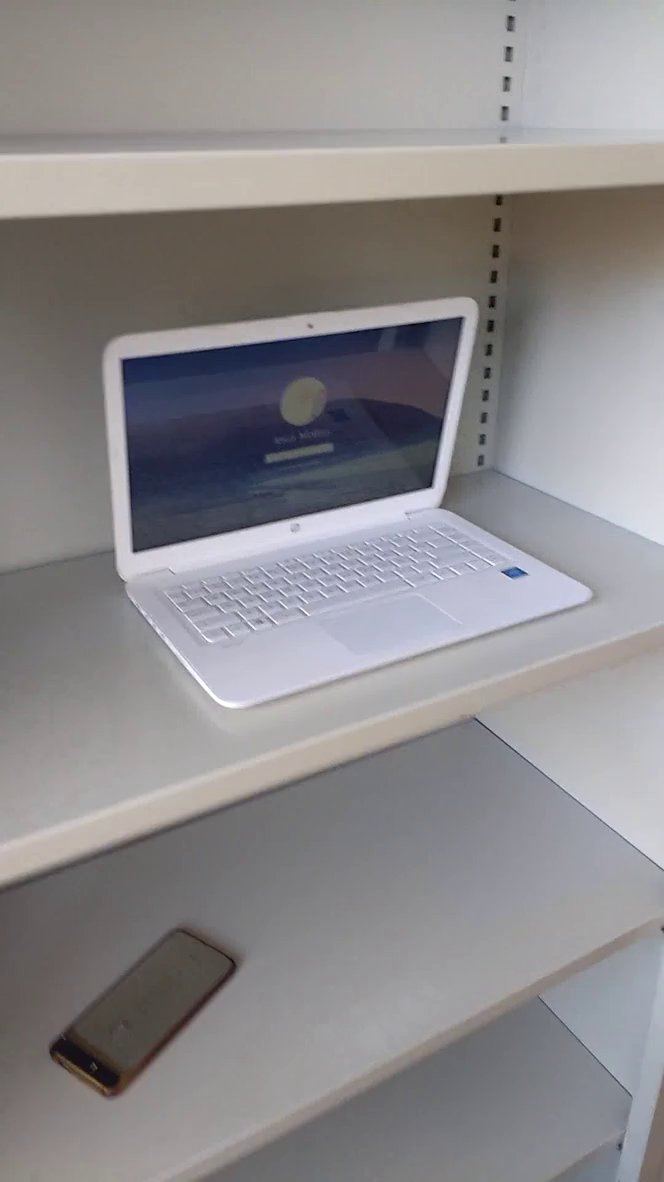laptop: (88, 274, 607, 720)
phone: (42, 913, 246, 1109)
